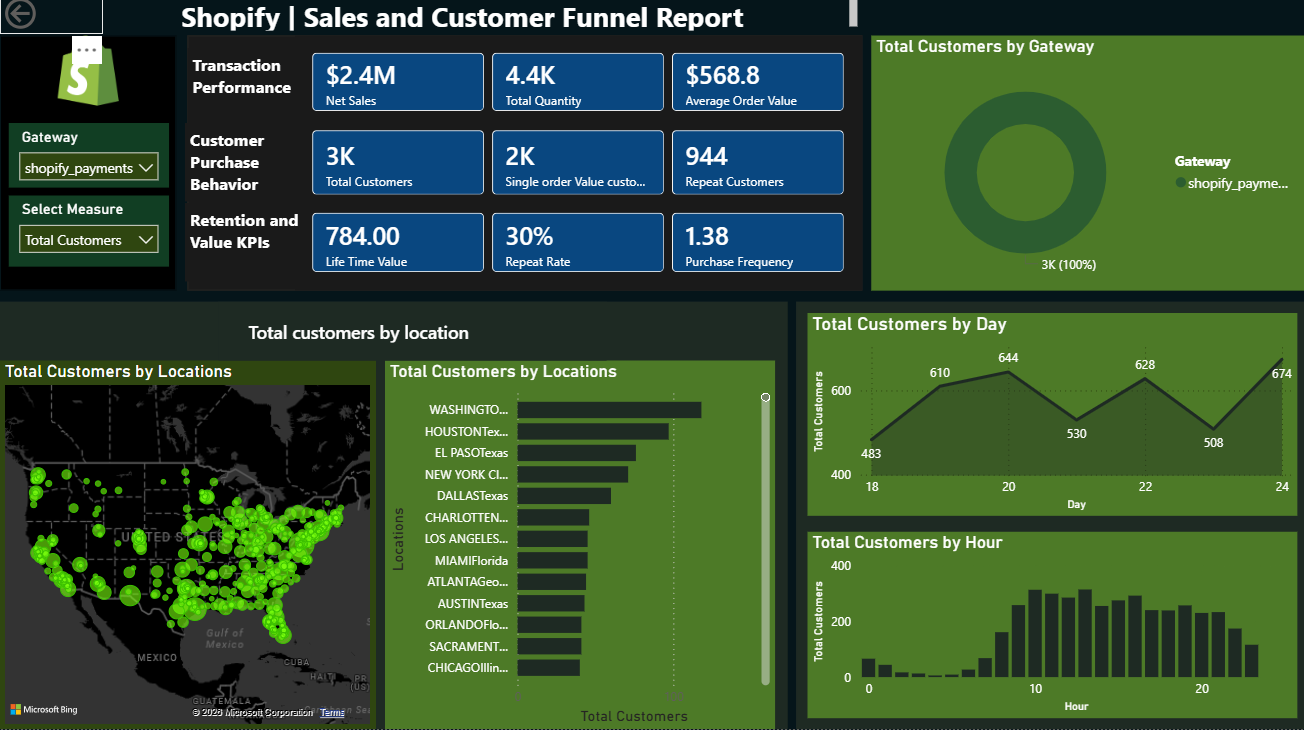

The dashboard page shown, as its layout file describes it:
{"tool":"powerbi","page":{"name":"Page 1","canvas":[1280,720],"ordinal":0},"visuals":[{"type":"shape","box":[0,302,770.4,418.2],"z":0},{"type":"textbox","box":[172.4,0,671.3,41.6],"z":1000},{"type":"shape","box":[0,41.6,172.4,249.5],"z":2000},{"type":"shape","box":[183.4,41.6,660.3,249.5],"z":3000},{"type":"cardVisual","fields":{"Data":["shopify_sales.Net Sales","shopify_sales.Total Quantity","shopify_sales.Average Order Value"]},"box":[288.6,41.6,555.2,91.7],"z":4000},{"type":"textbox","box":[183.4,53.8,116.2,77],"z":5000},{"type":"cardVisual","fields":{"Data":["shopify_sales.Total Customers","shopify_sales.Single order Value customers","shopify_sales.Repeat Customers"]},"box":[288.6,117.4,555.2,97.8],"z":6000},{"type":"textbox","box":[181,127.2,122.3,77],"z":7000},{"type":"cardVisual","fields":{"Data":["shopify_sales.Life Time Value","shopify_sales.Repeat Rate","shopify_sales.Purchase Frequency"]},"box":[288.6,198.1,555.2,92.9],"z":8000},{"type":"textbox","box":[181,205.4,122.3,77],"z":9000},{"type":"slicer","fields":{"Values":["Select Measure.Select Measure"]},"box":[8.6,198.1,156.5,69.7],"z":10000},{"type":"map","fields":{"Size":["shopify_sales.Total Quantity"],"Category":["shopify_sales.Locations"]},"box":[0,359.5,366.8,360.7],"z":11000},{"type":"clusteredBarChart","fields":{"Y":["shopify_sales.Total Quantity"],"Category":["shopify_sales.Locations"]},"box":[376.6,359.5,381.5,360.7],"z":12000},{"type":"cardVisual","fields":{"Data":["Select Measure.Locations title"]},"box":[214,302,379.1,57.5],"z":13000},{"type":"shape","box":[778.9,302,501.4,418.2],"z":14000},{"type":"areaChart","fields":{"Y":["shopify_sales.Total Quantity"],"Category":["shopify_sales.Invoice Date.Variation.Date Hierarchy.Day"]},"box":[789.9,313,479.4,198.1],"z":15000},{"type":"columnChart","fields":{"Y":["shopify_sales.Total Quantity"],"Category":["shopify_sales.Hour"]},"box":[789.9,527,479.4,182.2],"z":16000},{"type":"donutChart","fields":{"Y":["shopify_sales.Total Quantity"],"Category":["shopify_sales.Gateway"]},"box":[852.3,41.6,428,249.5],"z":17000},{"type":"slicer","fields":{"Values":["shopify_sales.Gateway"]},"box":[8.6,127.2,156.5,63.6],"z":18000},{"type":"image","box":[19.6,41.6,133.3,68.5],"z":19000}]}

Visuals, with their boxes on the page's 1280x720 design canvas (x1, y1, x2, y2). These are canvas units, not pixel positions in the 1304x730 screenshot, which may show the page scaled, cropped or inside an application window:
shape: <bbox>0, 302, 770, 720</bbox>
textbox: <bbox>172, 0, 844, 42</bbox>
shape: <bbox>0, 42, 172, 291</bbox>
shape: <bbox>183, 42, 844, 291</bbox>
cardVisual - shopify_sales.Net Sales x shopify_sales.Total Quantity: <bbox>289, 42, 844, 133</bbox>
textbox: <bbox>183, 54, 300, 131</bbox>
cardVisual - shopify_sales.Total Customers x shopify_sales.Single order Value customers: <bbox>289, 117, 844, 215</bbox>
textbox: <bbox>181, 127, 303, 204</bbox>
cardVisual - shopify_sales.Life Time Value x shopify_sales.Repeat Rate: <bbox>289, 198, 844, 291</bbox>
textbox: <bbox>181, 205, 303, 282</bbox>
slicer - Select Measure.Select Measure: <bbox>9, 198, 165, 268</bbox>
map - shopify_sales.Total Quantity x shopify_sales.Locations: <bbox>0, 360, 367, 720</bbox>
clusteredBarChart - shopify_sales.Total Quantity x shopify_sales.Locations: <bbox>377, 360, 758, 720</bbox>
cardVisual - Select Measure.Locations title: <bbox>214, 302, 593, 360</bbox>
shape: <bbox>779, 302, 1280, 720</bbox>
areaChart - shopify_sales.Total Quantity x shopify_sales.Invoice Date.Variation.Date Hierarchy.Day: <bbox>790, 313, 1269, 511</bbox>
columnChart - shopify_sales.Total Quantity x shopify_sales.Hour: <bbox>790, 527, 1269, 709</bbox>
donutChart - shopify_sales.Total Quantity x shopify_sales.Gateway: <bbox>852, 42, 1280, 291</bbox>
slicer - shopify_sales.Gateway: <bbox>9, 127, 165, 191</bbox>
image: <bbox>20, 42, 153, 110</bbox>
